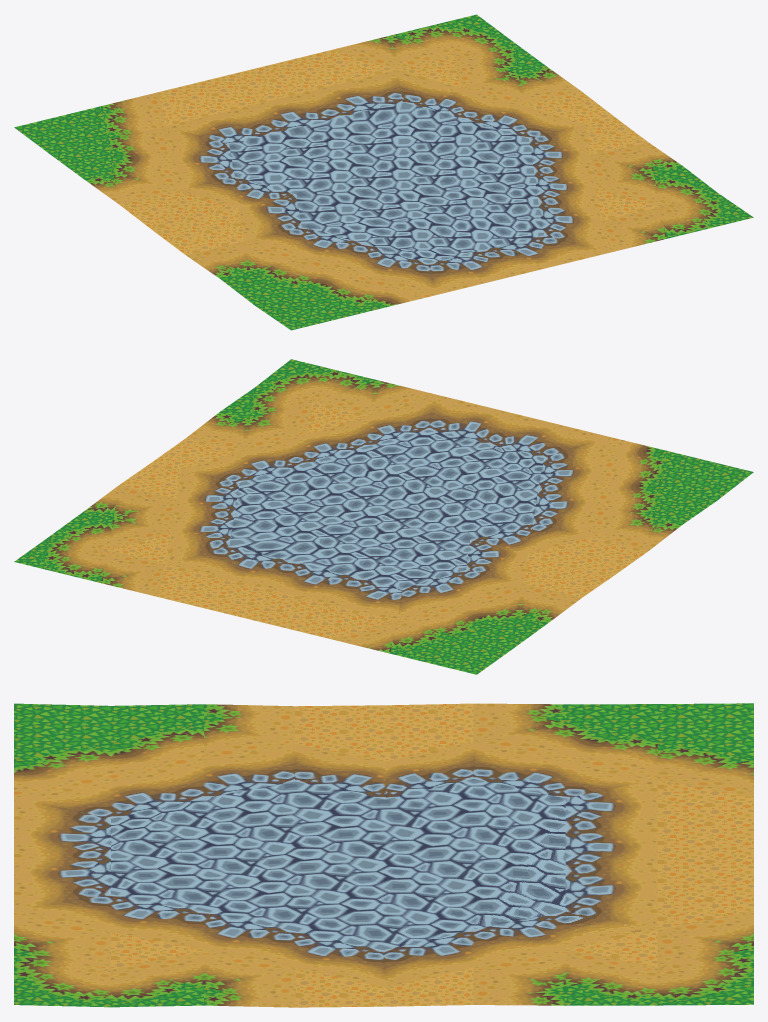
Rendered from c_grd_f_o_1.001.glb.
3 renders of one model, top to bottom at view 1: azimuth 30°, elevation 25°; view 2: azimuth 150°, elevation 25°; view 3: azimuth 270°, elevation 25°, orthographic. The views are drawn at different scales.
Visible parts, largest first — view 1: c_grd_f_o_1.001; view 2: c_grd_f_o_1.001; view 3: c_grd_f_o_1.001.
Boxes of the visible parts, box(x1,y1,x2,y2) form: c_grd_f_o_1.001: box(14, 14, 753, 330); c_grd_f_o_1.001: box(14, 359, 753, 674); c_grd_f_o_1.001: box(14, 703, 753, 1007).
Bounding box in the file's own units: 32 × 0.1406 × 33.2.
Materials: 5 (5 with a texture image).
